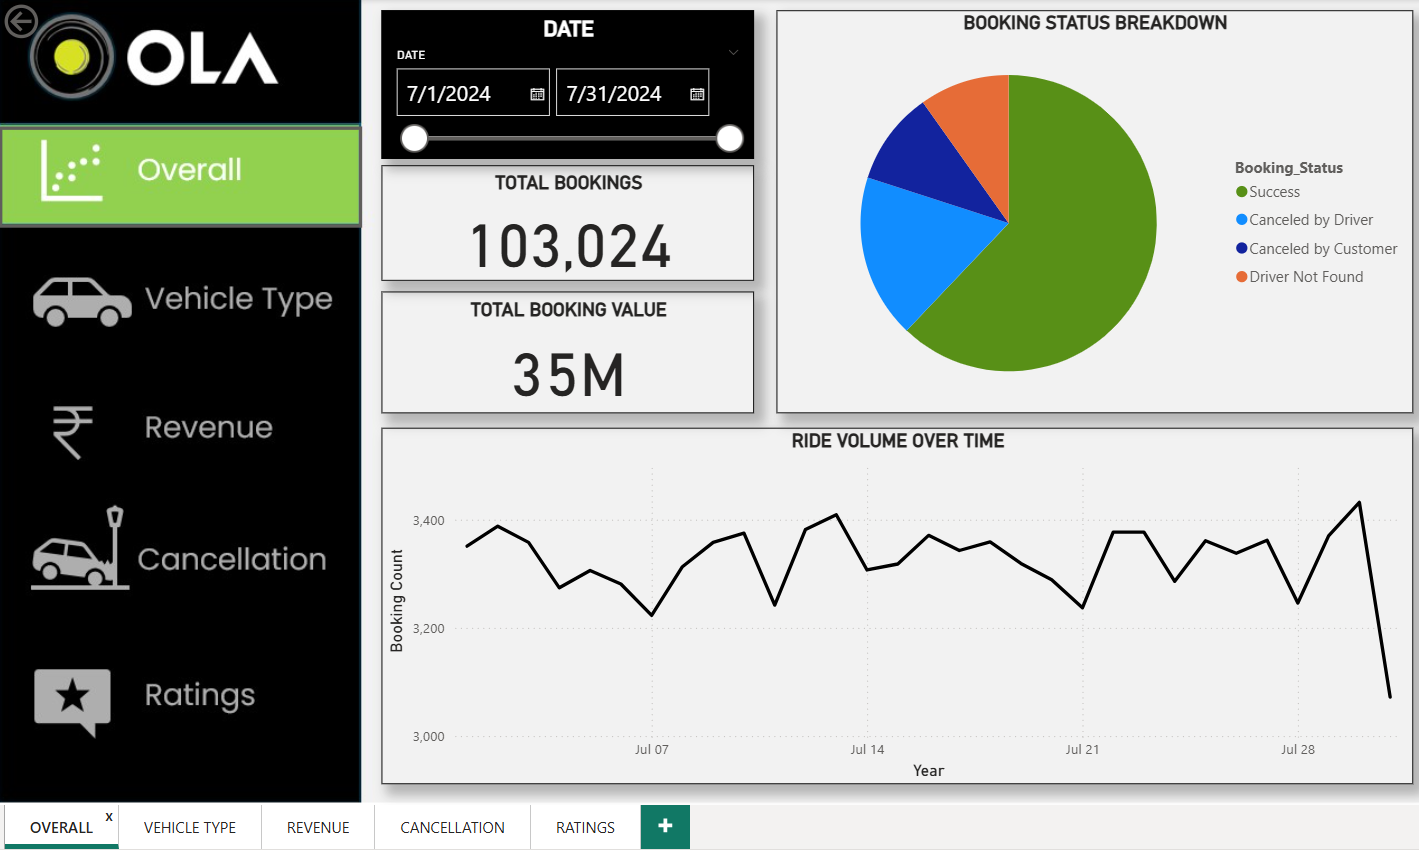

Layout of this report page (visuals, bound fields, positions):
{"tool":"powerbi","page":{"name":"OVERALL","canvas":[1280,720],"ordinal":0},"visuals":[{"type":"actionButton","box":[0,113.4,324.4,90.5],"z":0},{"type":"actionButton","box":[0,221.9,324.4,90.5],"z":1000},{"type":"actionButton","box":[0,337.7,324.4,90.5],"z":2000},{"type":"actionButton","box":[0,447.4,324.4,90.5],"z":3000},{"type":"actionButton","box":[0,576.5,324.4,90.5],"z":4000},{"type":"lineChart","title":"RIDE VOLUME OVER TIME","fields":{"Y":["CountNonNull(Sheet1.Booking_ID)"],"Category":["Sheet1.Date.Variation.Date Hierarchy.Year","Sheet1.Date.Variation.Date Hierarchy.Quarter","Sheet1.Date.Variation.Date Hierarchy.Month","Sheet1.Date.Variation.Date Hierarchy.Day"]},"box":[341.4,382.9,921.4,318.6],"z":5000},{"type":"slicer","title":"DATE","fields":{"Values":["Sheet1.Date"]},"box":[341.4,10,332.9,132.9],"z":6000},{"type":"actionButton","box":[0,0,100,40],"z":7000},{"type":"pieChart","title":"BOOKING STATUS BREAKDOWN","fields":{"Y":["CountNonNull(Sheet1.Booking_ID)"],"Category":["Sheet1.Booking_Status"]},"box":[694.3,10,568.6,360],"z":8000},{"type":"card","title":"TOTAL BOOKINGS","fields":{"Values":["Count(Sheet1.Booking_ID)"]},"box":[341.4,148.6,332.9,102.9],"z":9000},{"type":"card","title":"TOTAL BOOKING VALUE","fields":{"Values":["Sum(Sheet1.Booking_Value)"]},"box":[341.4,261.4,332.9,108.6],"z":10000}]}

Visuals, with their boxes on the page's 1280x720 design canvas (x1, y1, x2, y2). These are canvas units, not pixel positions in the 1419x850 screenshot, which may show the page scaled, cropped or inside an application window:
actionButton: box(0, 113, 324, 204)
actionButton: box(0, 222, 324, 312)
actionButton: box(0, 338, 324, 428)
actionButton: box(0, 447, 324, 538)
actionButton: box(0, 576, 324, 667)
"RIDE VOLUME OVER TIME" lineChart: box(341, 383, 1263, 702)
"DATE" slicer: box(341, 10, 674, 143)
actionButton: box(0, 0, 100, 40)
"BOOKING STATUS BREAKDOWN" pieChart: box(694, 10, 1263, 370)
"TOTAL BOOKINGS" card: box(341, 149, 674, 252)
"TOTAL BOOKING VALUE" card: box(341, 261, 674, 370)
